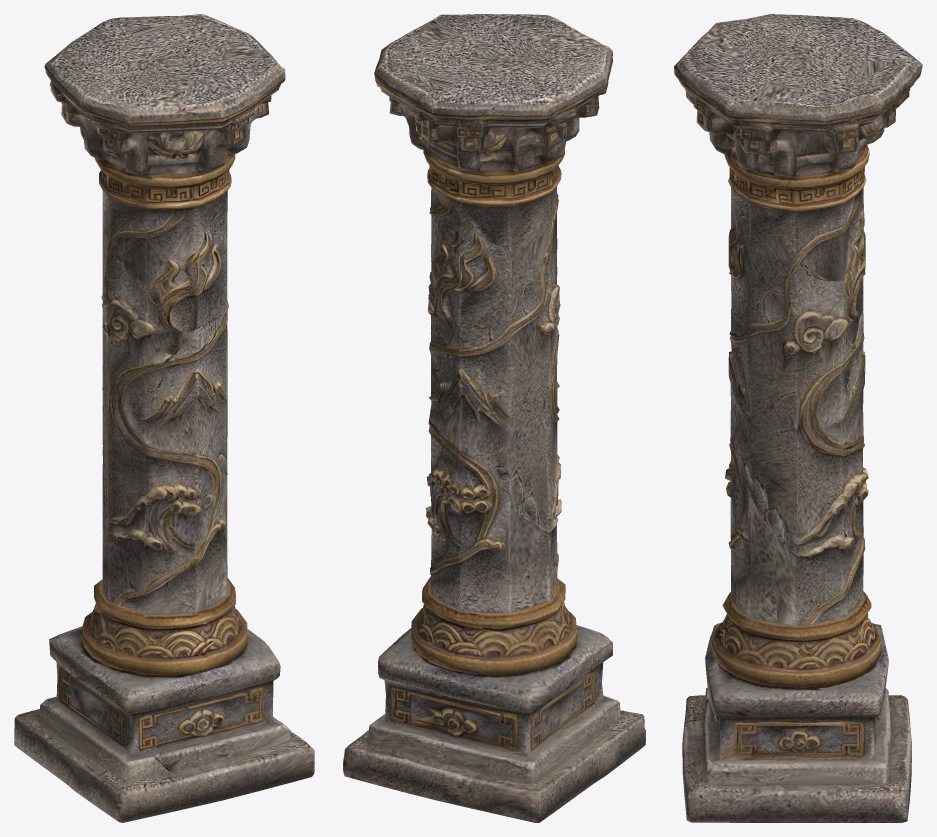
Rendered from column.glb.
3 views of the same model, side by side, from view 1: azimuth 30°, elevation 25°; view 2: azimuth 150°, elevation 25°; view 3: azimuth 270°, elevation 25° (orthographic). The views are drawn at different scales.
Parts seen in each view (by area): view 1: column; view 2: column; view 3: column.
Boxes of the visible parts, left/top/right/bottom form: column: left=14, top=14, right=314, bottom=822; column: left=343, top=14, right=645, bottom=822; column: left=674, top=14, right=922, bottom=822.
Size of the model in its own units: 0.2898 by 0.9789 by 0.3081.
1 material, 1 textured.
